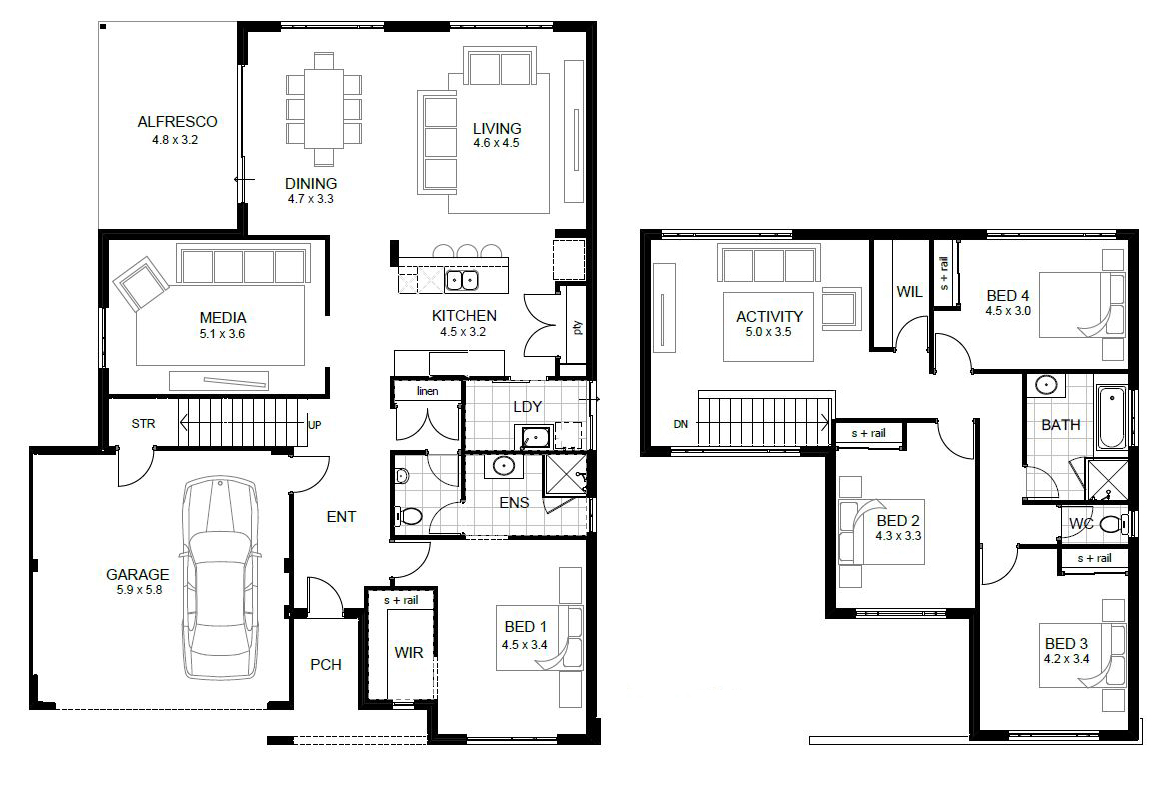door: (393, 408, 462, 449), (516, 291, 552, 362), (981, 547, 1020, 594), (112, 450, 154, 493), (936, 327, 975, 369), (394, 539, 437, 577), (936, 424, 976, 464), (295, 455, 331, 497), (897, 314, 932, 343)
window: (451, 8, 553, 36), (278, 15, 379, 36), (473, 729, 553, 749), (667, 446, 800, 458), (990, 227, 1112, 240), (664, 229, 788, 238), (93, 313, 114, 362), (860, 606, 942, 617), (1009, 730, 1100, 738), (1129, 391, 1142, 445), (579, 499, 600, 524)
